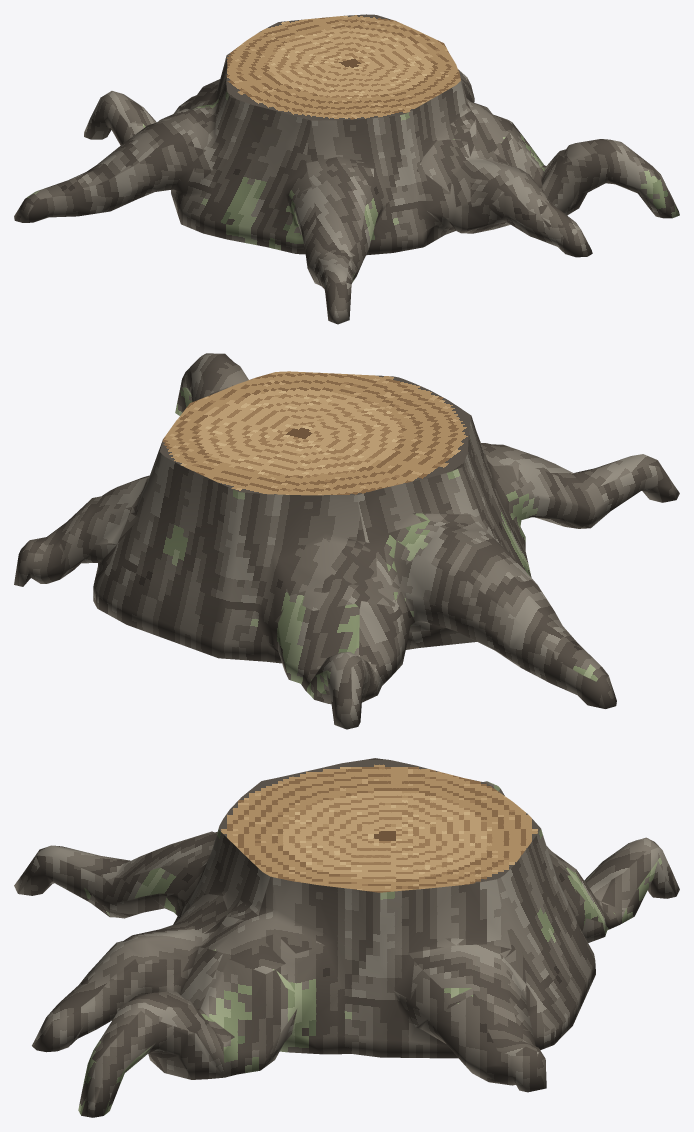
Rendered from environment_elm5_stump_v57.fbx.
3 views of the same model, one above another, from view 1: azimuth 30°, elevation 25°; view 2: azimuth 150°, elevation 25°; view 3: azimuth 270°, elevation 25° (orthographic). The views are drawn at different scales.
Parts seen in each view (by area): view 1: environment_elm5_stump_v57; view 2: environment_elm5_stump_v57; view 3: environment_elm5_stump_v57.
Part boxes in pixels (x1,y1,x2,y2): environment_elm5_stump_v57: (14, 14, 679, 324); environment_elm5_stump_v57: (14, 353, 679, 729); environment_elm5_stump_v57: (14, 758, 679, 1117).
Size of the model in its own units: 527 by 115 by 468.
2 materials, 2 textured.
